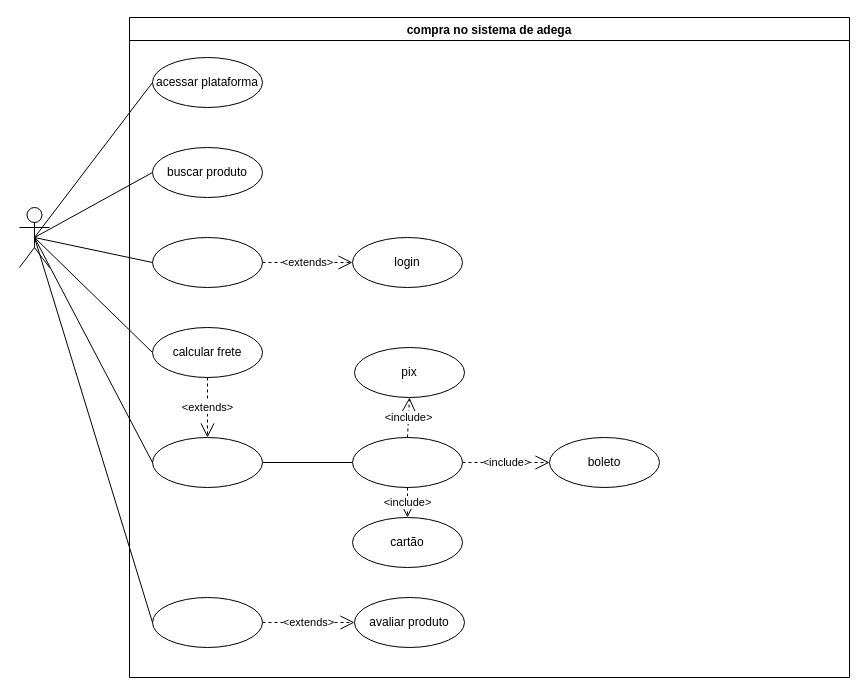
Some shapes in this 867 by 695 pixel diagram are drawn without their labels. Each missing label, with the centre of its shape:
"acompanhar a compra" belongs at pixel 207 622.
"adicionar no carrinho" belongs at pixel 207 262.
"cliente" belongs at pixel 34 237.
"escolher pagamento" belongs at pixel 407 462.
"finalizar compra" belongs at pixel 207 462.
